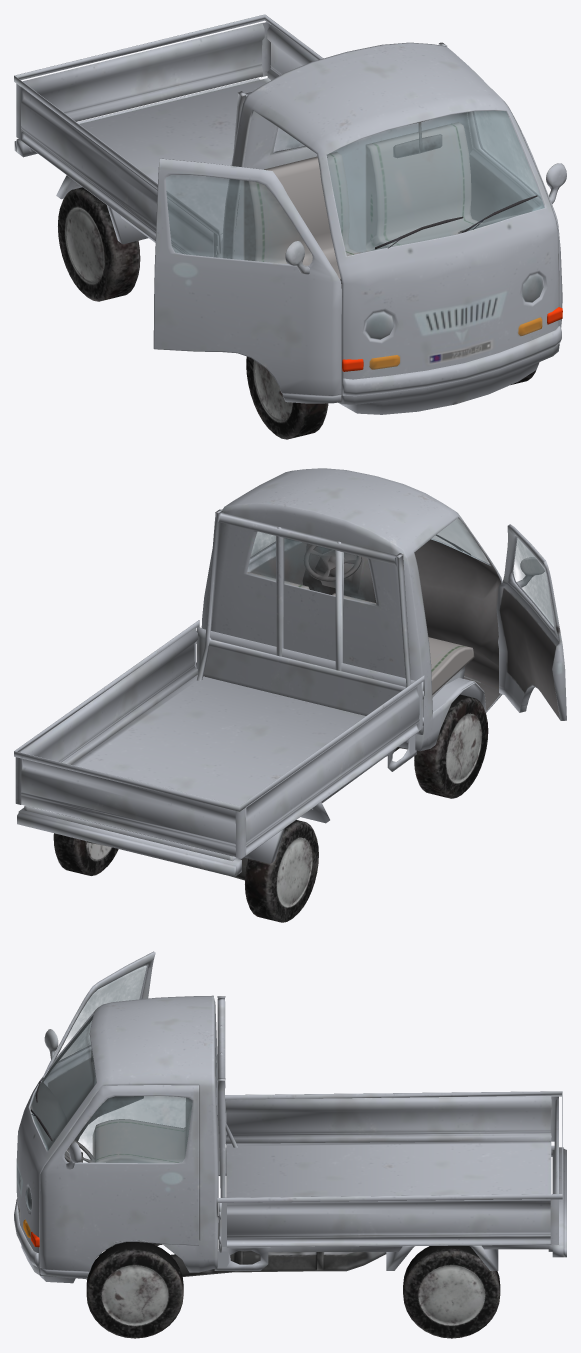
Rendered from kei_truck.glb.
3 views of the same model, one above another, from view 1: azimuth 30°, elevation 25°; view 2: azimuth 150°, elevation 25°; view 3: azimuth 270°, elevation 25° (orthographic). The views are drawn at different scales.
Parts seen in each view (by area): view 1: Cabin, Cabin.002, Cabin.001; view 2: Cabin.002, Cabin, Cabin.001; view 3: Cabin, Cabin.002, Cabin.001.
Part boxes in pixels (x1=…): Cabin: x1=58, y1=42, x2=566, y2=439; Cabin.002: x1=14, y1=14, x2=447, y2=257; Cabin.001: x1=153, y1=158, x2=341, y2=403; Cabin.002: x1=14, y1=509, x2=424, y2=880; Cabin: x1=53, y1=468, x2=502, y2=922; Cabin.001: x1=496, y1=524, x2=566, y2=720; Cabin: x1=14, y1=995, x2=500, y2=1338; Cabin.002: x1=149, y1=996, x2=566, y2=1276; Cabin.001: x1=44, y1=951, x2=155, y2=1144.
Bounding box in the file's own units: 5.28 × 4.3 × 7.99.
1 material, 1 textured.
